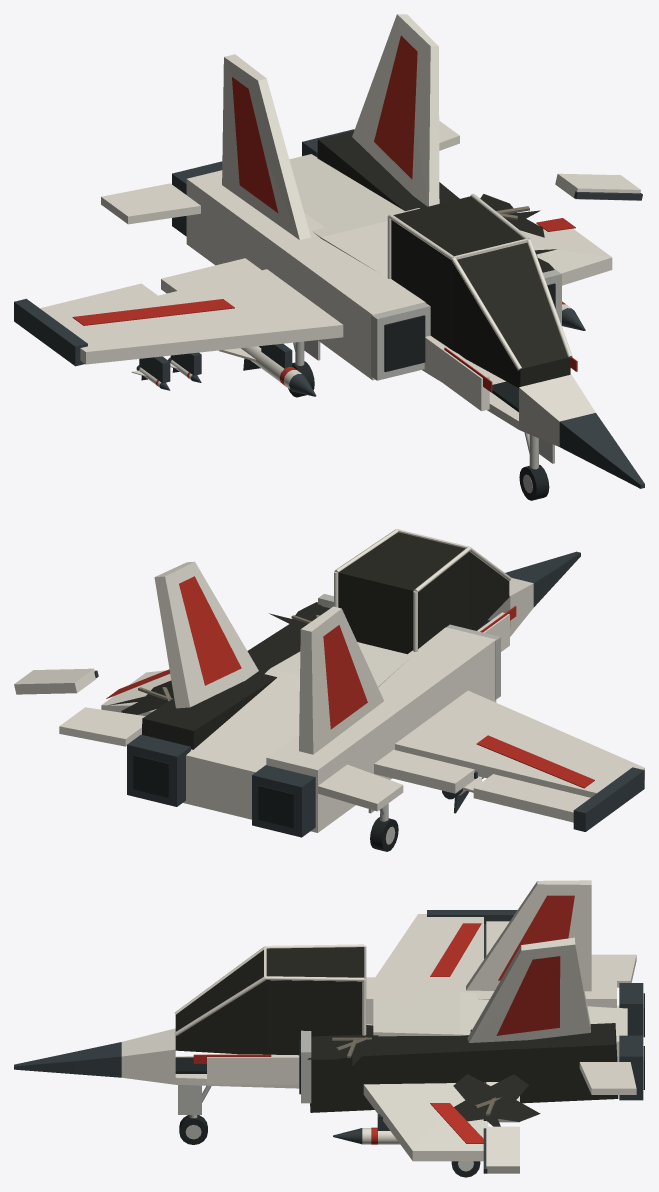
3 renders of one model, top to bottom at view 1: azimuth 30°, elevation 25°; view 2: azimuth 150°, elevation 25°; view 3: azimuth 270°, elevation 25°, orthographic. The views are drawn at different scales.
Parts seen in each view (by area): view 1: jet-a-damaged-fleet-armor, jet-a-damaged-fleet-damage-charred, jet-a-damaged-fleet-red, jet-a-damaged-fleet-machine, elevator-left-fleet-armor, jet-a-damaged-fleet-rubber, jet-a-damaged-fleet-edge, aileron-right-painted, aileron-left-painted, flap-left-painted, store-left-large-painted, gear-wheel-nose-0-0-painted; view 2: jet-a-damaged-fleet-armor, jet-a-damaged-fleet-damage-charred, jet-a-damaged-fleet-machine, jet-a-damaged-fleet-red, aileron-left-painted, flap-left-painted, jet-a-damaged-fleet-rubber, elevator-left-fleet-armor, elevator-right-fleet-armor, aileron-right-painted, gear-wheel-left-0-0-painted, jet-a-damaged-fleet-edge; view 3: jet-a-damaged-fleet-armor, jet-a-damaged-fleet-damage-charred, jet-a-damaged-fleet-red, jet-a-damaged-fleet-machine, aileron-right-painted, elevator-right-fleet-armor, elevator-left-fleet-armor, landing-gear-nose-fleet-edge, store-right-large-painted, jet-a-damaged-fleet-edge, jet-a-damaged-fleet-rubber, gear-wheel-nose-0-0-painted (+2 smaller).
Boxes of the visible parts, x1,y1,x2,y2 form: jet-a-damaged-fleet-armor: (56,14,612,446); jet-a-damaged-fleet-damage-charred: (317,130,570,387); jet-a-damaged-fleet-red: (72,35,577,392); jet-a-damaged-fleet-machine: (14,129,644,488); elevator-left-fleet-armor: (101,183,200,224); jet-a-damaged-fleet-rubber: (384,283,555,412); jet-a-damaged-fleet-edge: (371,269,561,380); aileron-right-painted: (555,173,642,200); aileron-left-painted: (40,283,157,320); flap-left-painted: (161,258,261,293); store-left-large-painted: (219,346,316,396); gear-wheel-nose-0-0-painted: (519,464,549,500); jet-a-damaged-fleet-armor: (101,529,644,832); jet-a-damaged-fleet-damage-charred: (109,532,509,749); jet-a-damaged-fleet-machine: (127,551,644,837); jet-a-damaged-fleet-red: (106,576,594,788); aileron-left-painted: (473,774,590,822); flap-left-painted: (374,749,477,793); jet-a-damaged-fleet-rubber: (133,620,490,828); elevator-left-fleet-armor: (318,764,403,811); elevator-right-fleet-armor: (59,707,145,746); aileron-right-painted: (14,668,98,694); gear-wheel-left-0-0-painted: (370,817,398,851); jet-a-damaged-fleet-edge: (318,594,500,700); jet-a-damaged-fleet-armor: (121,880,627,1161); jet-a-damaged-fleet-damage-charred: (175,947,618,1126); jet-a-damaged-fleet-red: (193,895,574,1143); jet-a-damaged-fleet-machine: (14,910,643,1130); aileron-right-painted: (483,1126,519,1173); elevator-right-fleet-armor: (579,1062,636,1094); elevator-left-fleet-armor: (591,954,636,987); landing-gear-nose-fleet-edge: (178,1085,211,1118); store-right-large-painted: (333,1127,400,1144); jet-a-damaged-fleet-edge: (301,1030,311,1103); jet-a-damaged-fleet-rubber: (175,993,644,1094); gear-wheel-nose-0-0-painted: (179,1115,207,1144).
Size of the model in its own units: 56.65 by 26.34 by 62.11.
